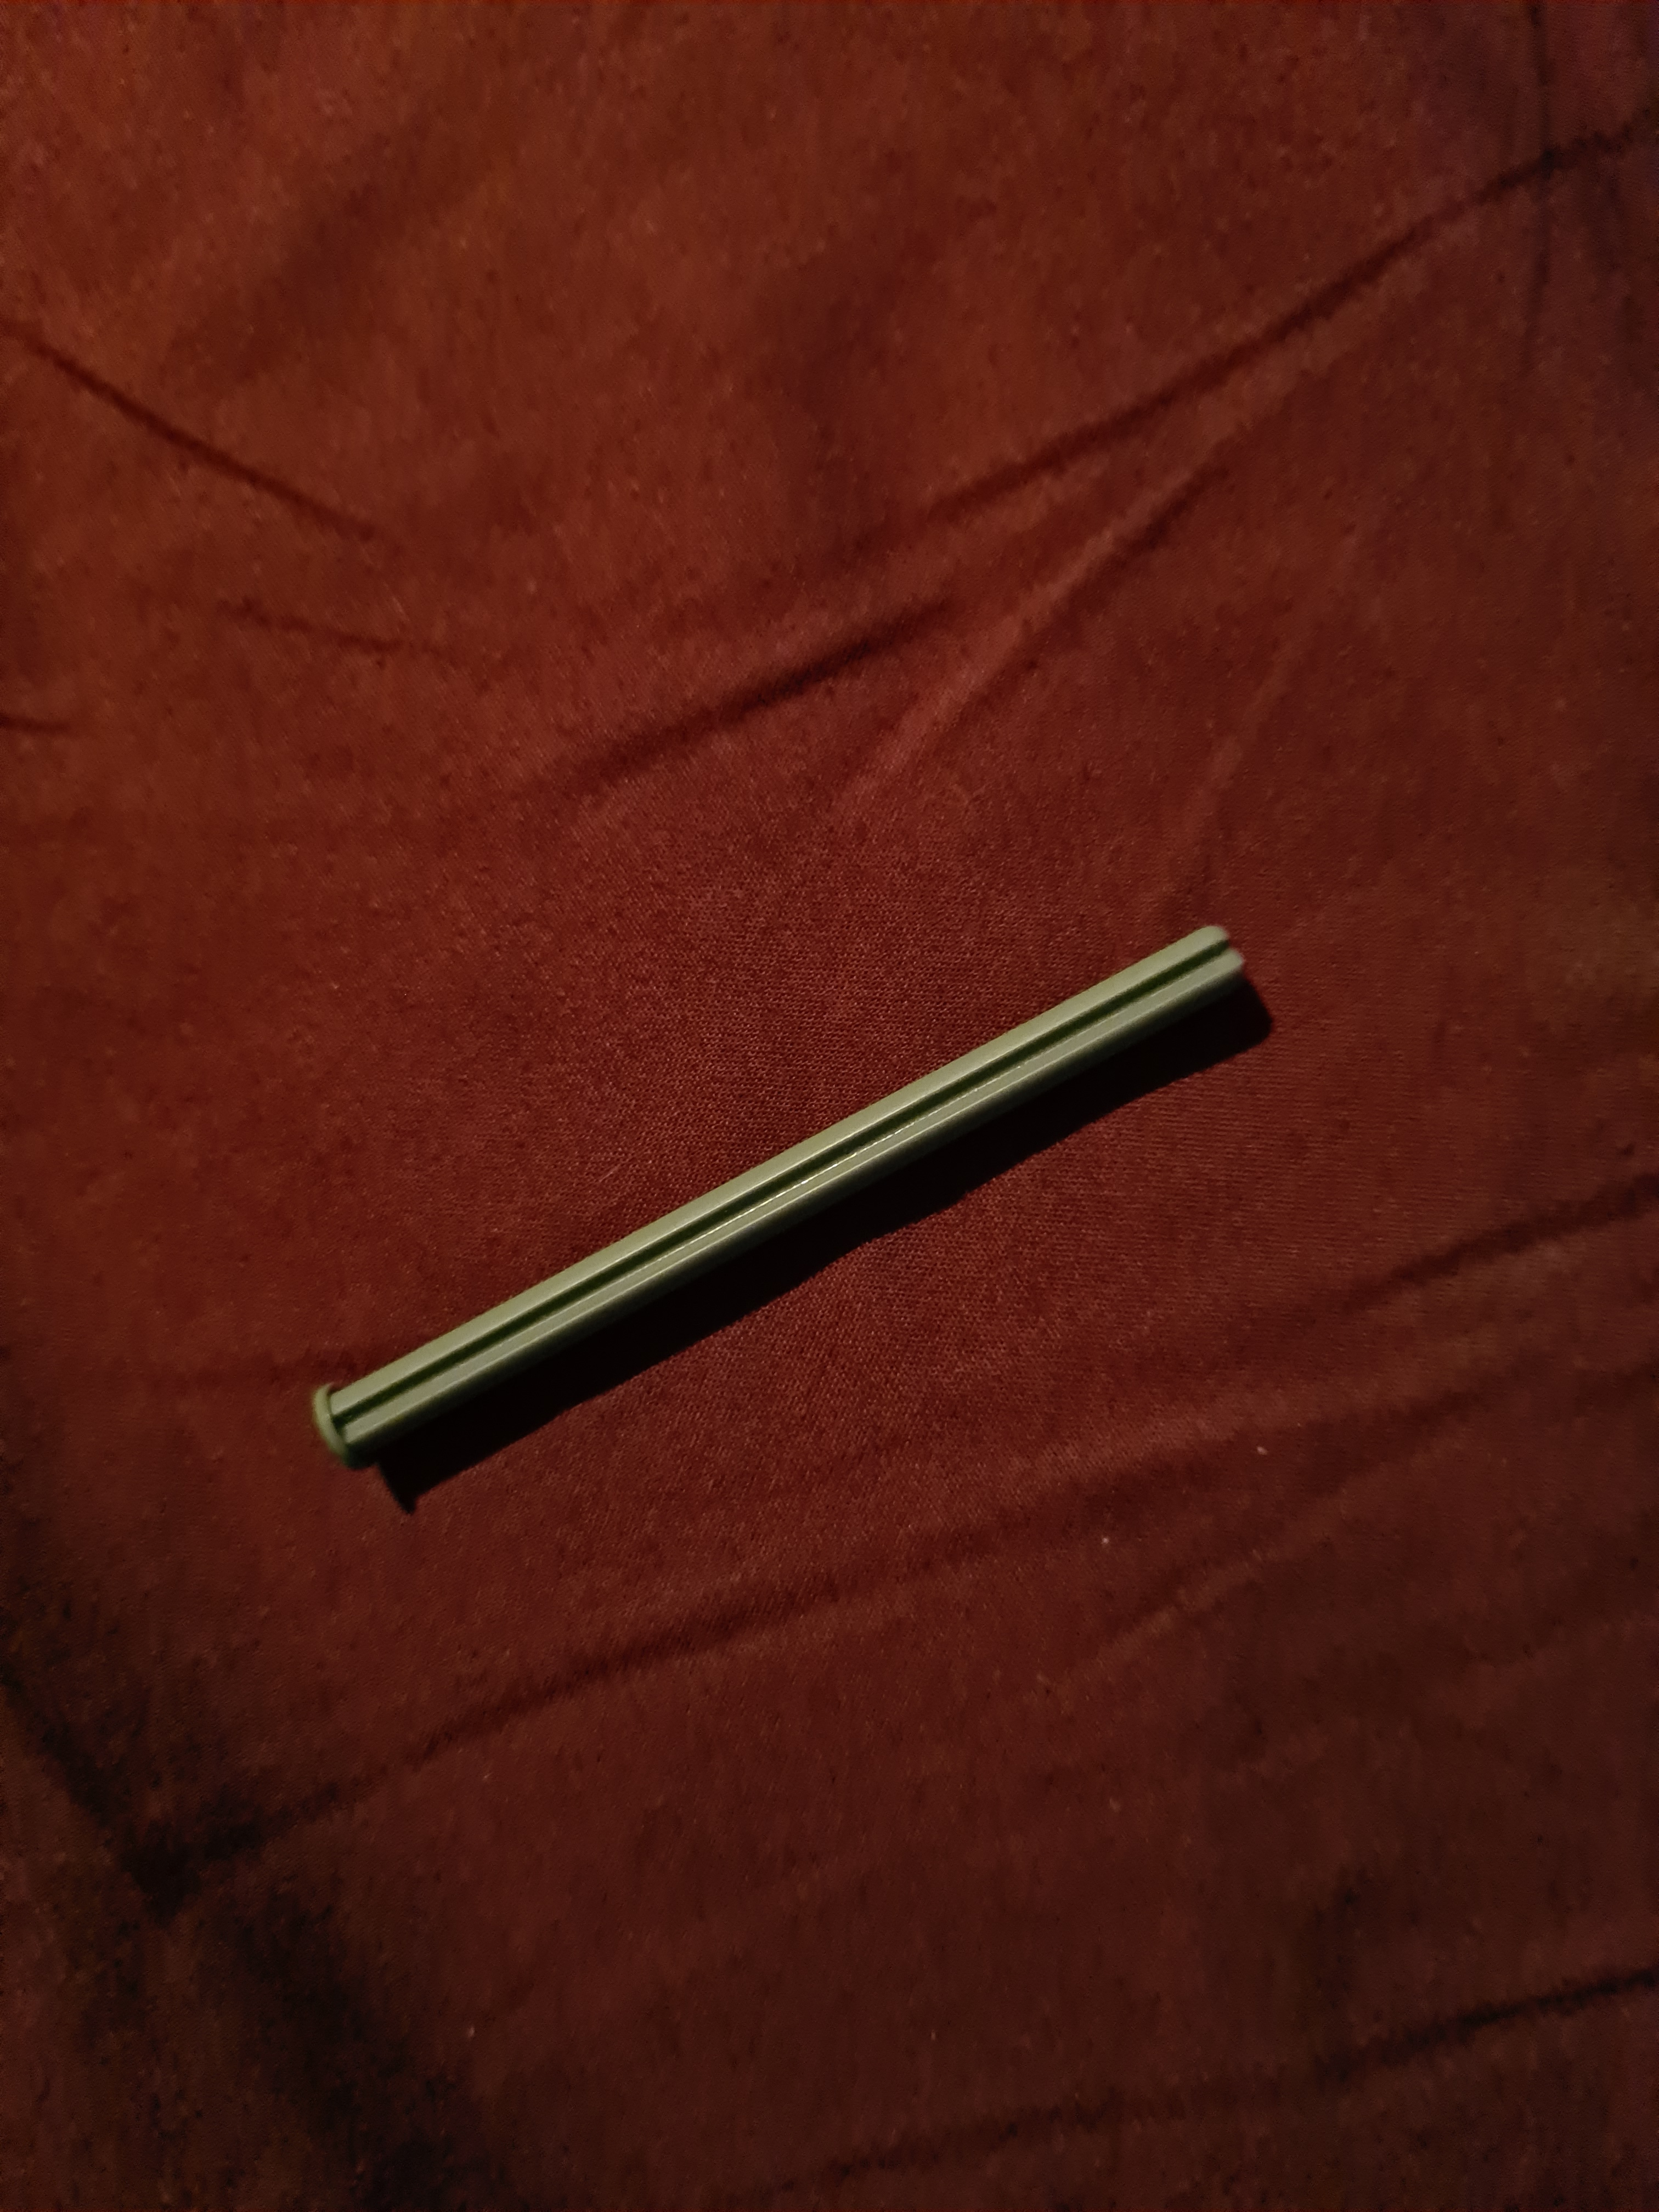Grau_lang: (261, 876, 1276, 1507)
